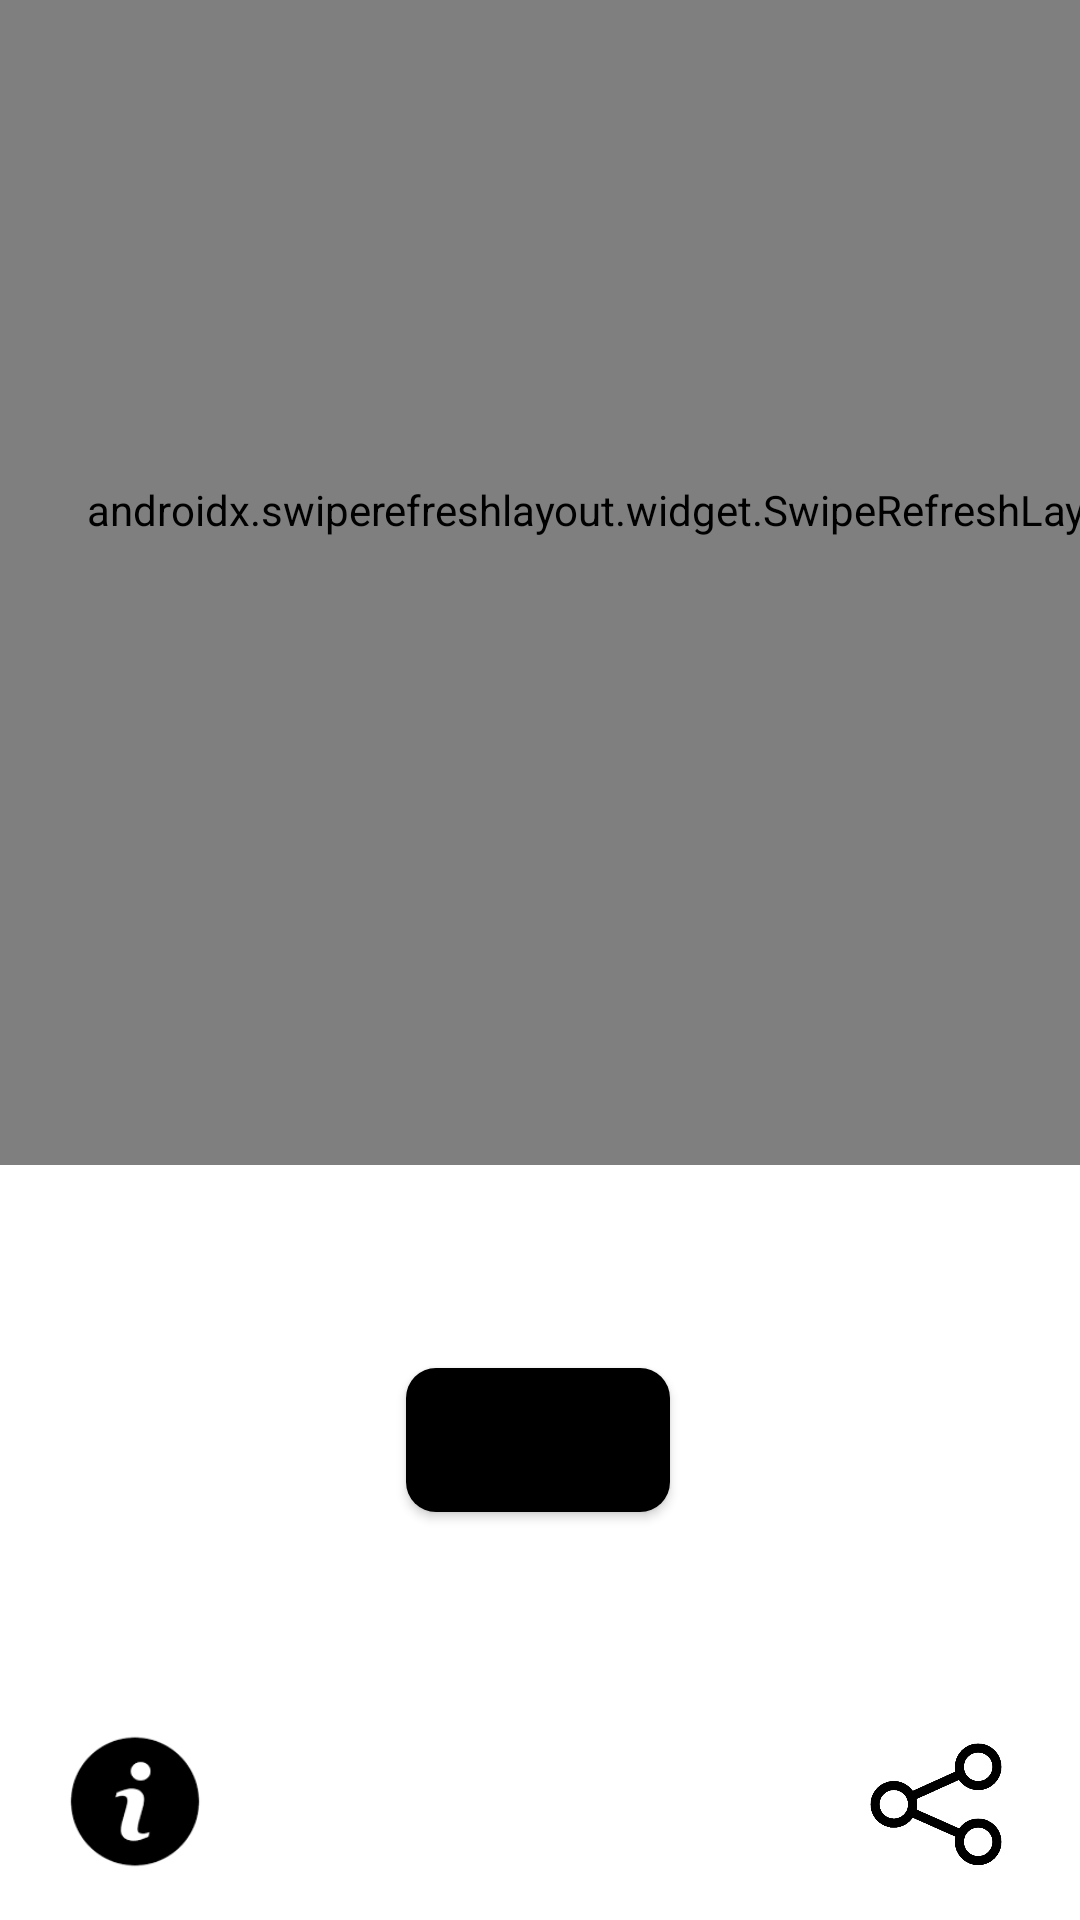

Where icons sit on this 1080*1920 app screen, as bbox=[x1, y1, x2, y2]:
information: bbox=[70, 1737, 200, 1866]
